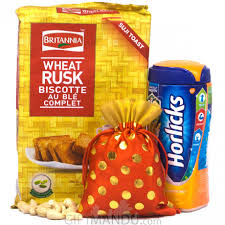Britania-toast-large: (17, 7, 150, 205)
